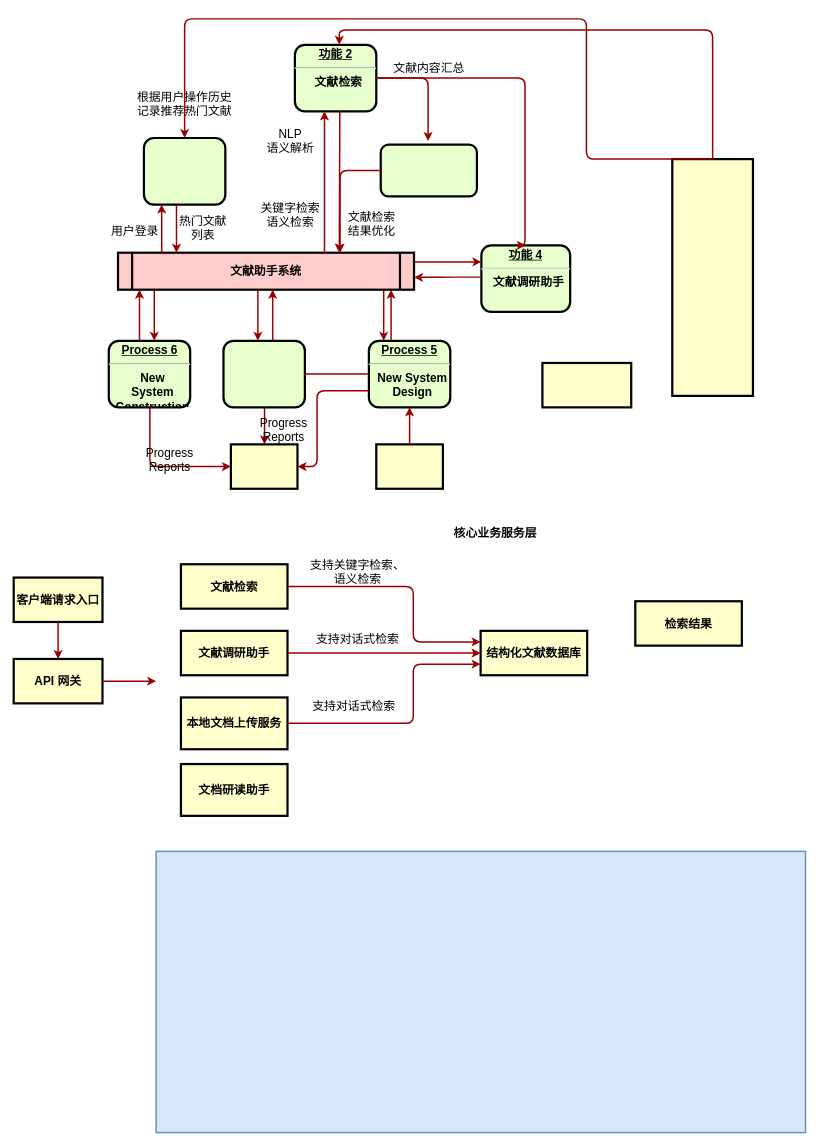
Image size: 819x1146. Some labels were removed from this diagram. The centre of each missing label's shape, as x and y in pixels:
Process 7 New System Startup and Testing: (264,373)
Vendors: (409,466)
功能 1 热门文献推荐: (184,171)
功能 3 文献综述报告: (428,170)
文档数据库: (263,466)
文献 用户文档 数据库: (712,277)
用户文档数据库: (586,384)
